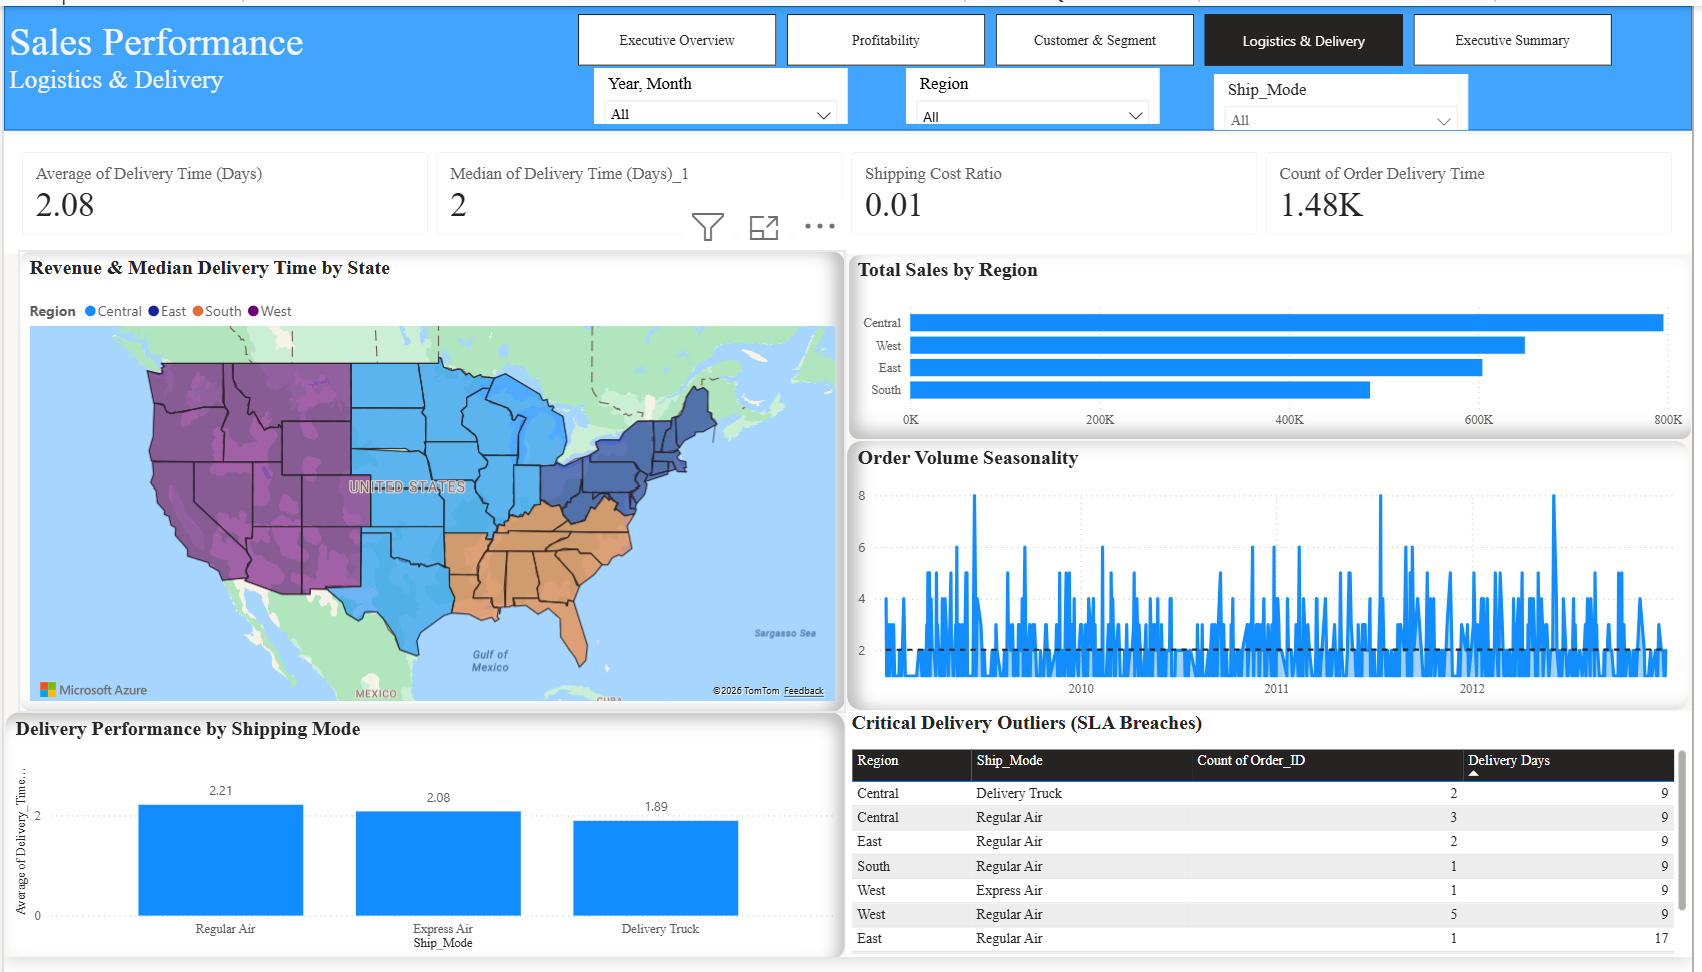

What the dashboard file says about the page in this screenshot:
{"tool":"powerbi","page":{"name":" Logistics & Delivery","canvas":[1600,900],"ordinal":3},"visuals":[{"type":"shape","box":[0,0,1600.4,118.1],"z":0},{"type":"textbox","box":[0,7.1,480.5,108.9],"z":1000},{"type":"slicer","fields":{"Values":["Working Sheet.Ship_Mode"]},"box":[1146.9,64.5,240.8,53.1],"z":2000},{"type":"cardVisual","fields":{"Data":["Avg(Working Sheet.Delivery Time (Days))","Median(Working Sheet.Delivery Time (Days)_1)","Avg(Working Sheet.Shipping Cost Ratio)"]},"box":[0,121.3,674.9,113.7],"z":3000},{"type":"areaChart","title":"Order Volume Seasonality","fields":{"Category":["sales.Order_Date.Variation.Date Hierarchy.Month"],"Y":["CountNonNull(sales.Order_ID)"]},"box":[974.4,411.4,623.7,255.9],"z":4000},{"type":"clusteredColumnChart","title":"Delivery Performance by Shipping Mode","fields":{"Category":["sales.Ship_Mode"],"Y":["Avg(Working Sheet.Delivery Time (Days)_1)"]},"box":[0,667.3,798.1,237],"z":5000},{"type":"azureMap","title":"Regional Coverage","fields":{"Category":["Working Sheet.State"],"Series":["Working Sheet.Region"]},"box":[13.3,231.3,661.6,437.9],"z":6000},{"type":"tableEx","title":"Critical Delivery Outliers (SLA Breaches)","fields":{"Values":["Working Sheet.Region","Working Sheet.Ship_Mode","CountNonNull(Working Sheet.Order_ID)","Working Sheet.Delivery Time (Days)_1"]},"box":[798.1,667.3,801.9,235.1],"z":7000},{"type":"pageNavigator","box":[543.8,7.8,982,49.3],"z":8000},{"type":"clusteredBarChart","title":"Total Sales by Region","fields":{"Category":["sales.Region"],"Y":["Sum(Working Sheet.Sales)"]},"box":[974.4,121.3,629.4,291.9],"z":9000},{"type":"slicer","fields":{"Values":["Working Sheet.Order_Date.Variation.Date Hierarchy.Year"]},"box":[559.2,58.8,240.6,52.8],"z":10000},{"type":"slicer","fields":{"Values":["Working Sheet.Region"]},"box":[855,58.8,240.6,52.8],"z":11000},{"type":"donutChart","title":"On Time v Late Delivery ","fields":{"Category":["Working Sheet.Order Delivery Time"],"Y":["CountNonNull(Working Sheet.Order_ID)"]},"box":[674.9,121.3,299.5,546],"z":11001}]}

Visuals, with their boxes in screenshot pixels (x1, y1, x2, y2), scaled from the page's 1600x900 canvas onto the 1702x972 screenshot:
shape: (0,0,1701,128)
textbox: (0,8,511,125)
slicer - Working Sheet.Ship_Mode: (1220,70,1476,127)
cardVisual - Avg(Working Sheet.Delivery Time (Days)) x Median(Working Sheet.Delivery Time (Days)_1): (0,131,718,254)
"Order Volume Seasonality" areaChart: (1037,444,1700,721)
"Delivery Performance by Shipping Mode" clusteredColumnChart: (0,721,849,971)
"Regional Coverage" azureMap: (14,250,718,723)
"Critical Delivery Outliers (SLA Breaches)" tableEx: (849,721,1701,971)
pageNavigator: (578,8,1623,62)
"Total Sales by Region" clusteredBarChart: (1037,131,1701,446)
slicer - Working Sheet.Order_Date.Variation.Date Hierarchy.Year: (595,64,851,121)
slicer - Working Sheet.Region: (910,64,1165,121)
"On Time v Late Delivery " donutChart: (718,131,1037,721)
